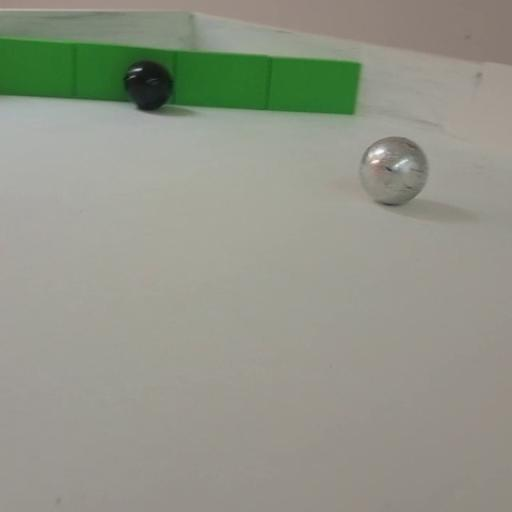alive: (358, 137, 428, 205)
dead: (124, 60, 173, 110)
